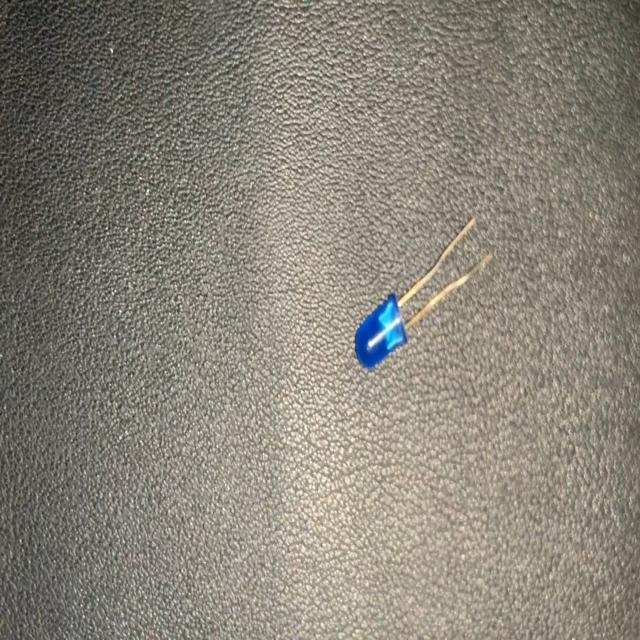LED: (352, 216, 494, 381)
